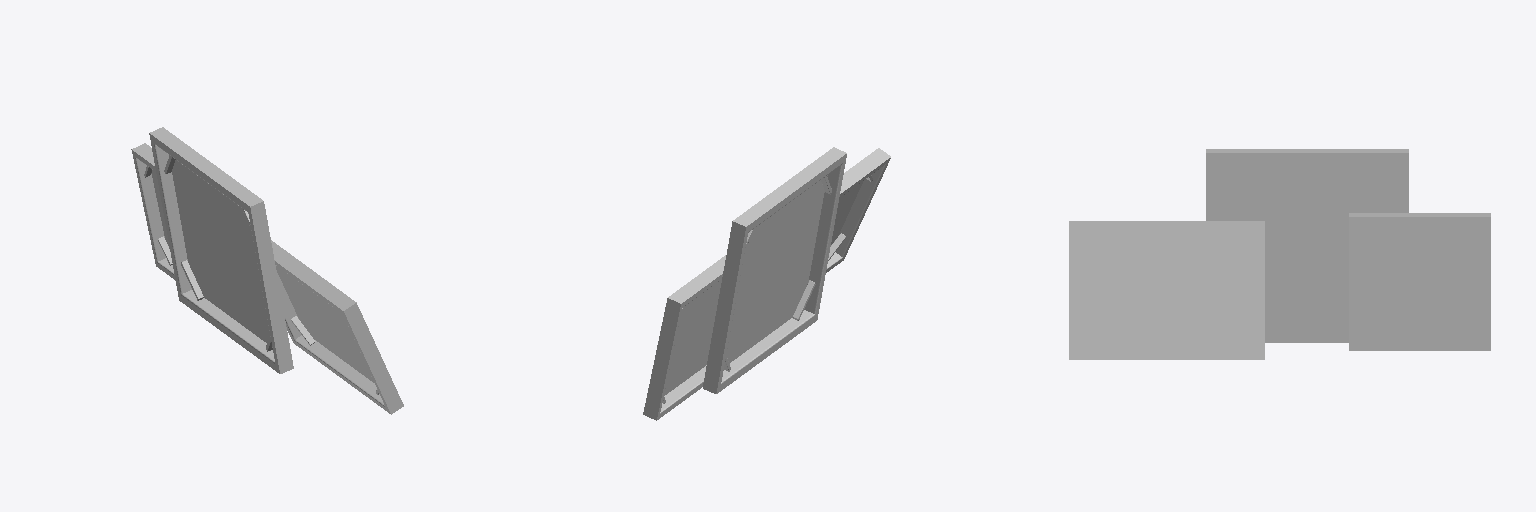
File: painting.obj
3 renders of one model, left to right at view 1: azimuth 30°, elevation 25°; view 2: azimuth 150°, elevation 25°; view 3: azimuth 270°, elevation 25°, orthographic.
Visible parts, largest first — view 1: Object006; view 2: Object006; view 3: Object006.
Part boxes in pixels (bbox=[...]): Object006: bbox=[131, 127, 403, 414]; Object006: bbox=[643, 147, 890, 420]; Object006: bbox=[1069, 149, 1490, 359].
Bounding box in the file's own units: 17.36 × 34.68 × 74.66.